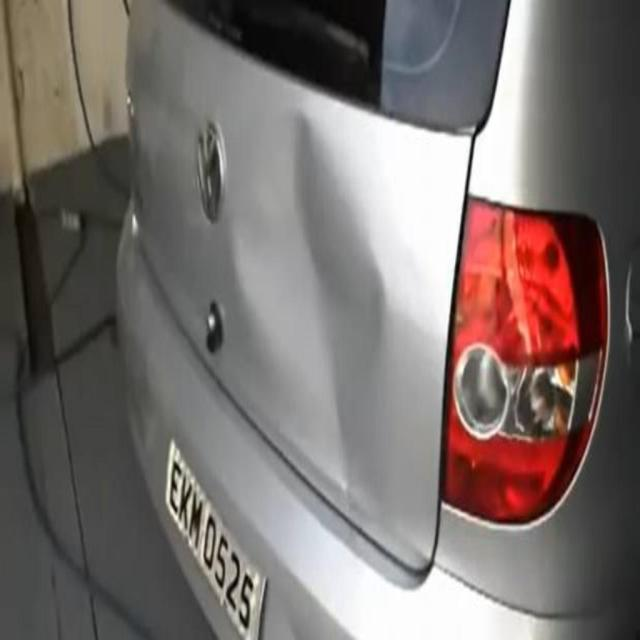Damage: (208, 100, 422, 560)
